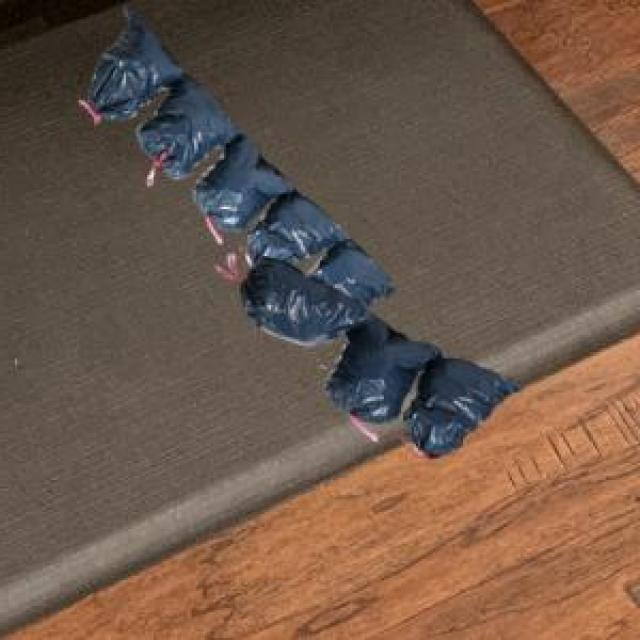Trashbag: (416, 365, 509, 458), (248, 264, 352, 342), (339, 325, 428, 415), (86, 23, 172, 113), (256, 195, 350, 272), (149, 88, 236, 171), (199, 150, 284, 228)
